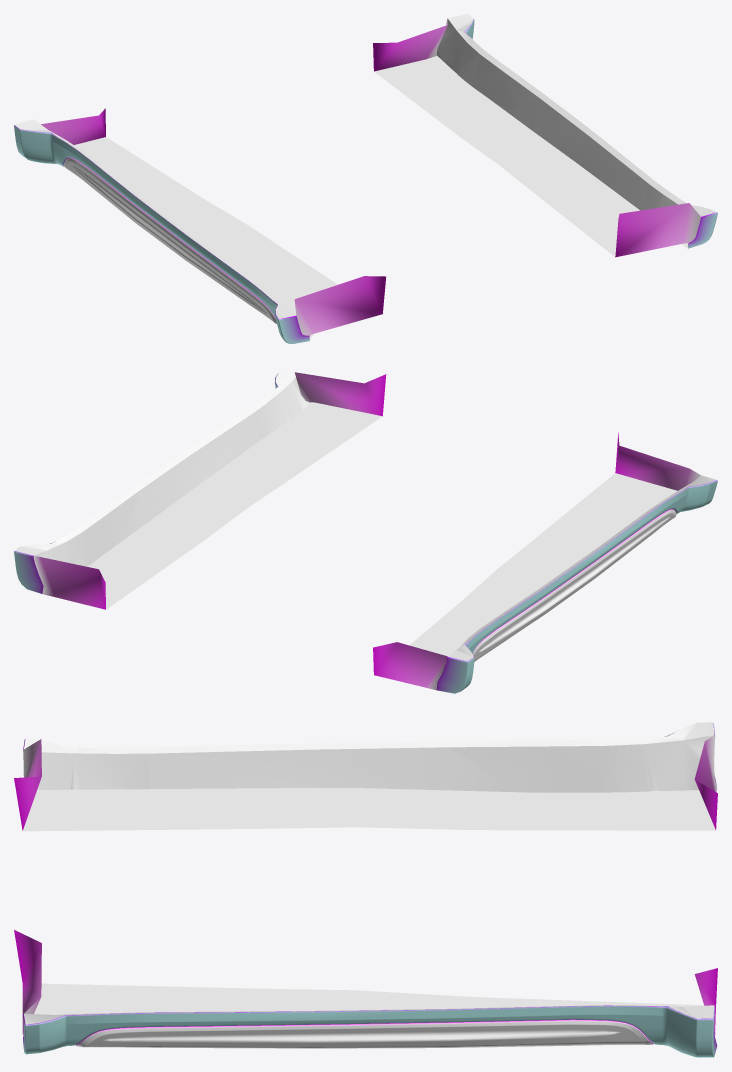
File: Car_Mini_CountrymanJCW_2017_Skirts_SetA_AltD.fbx
3 renders of one model, top to bottom at view 1: azimuth 30°, elevation 25°; view 2: azimuth 150°, elevation 25°; view 3: azimuth 270°, elevation 25°, orthographic. The views are drawn at different scales.
Visible parts, largest first — view 1: Skirts 6; view 2: Skirts 6; view 3: Skirts 6.
Boxes of the visible parts, left/top/right/bottom form: Skirts 6: left=14, top=14, right=717, bottom=343; Skirts 6: left=14, top=372, right=717, bottom=693; Skirts 6: left=14, top=722, right=717, bottom=1057.
Size of the model in its own units: 1.89 by 0.1973 by 1.9.
